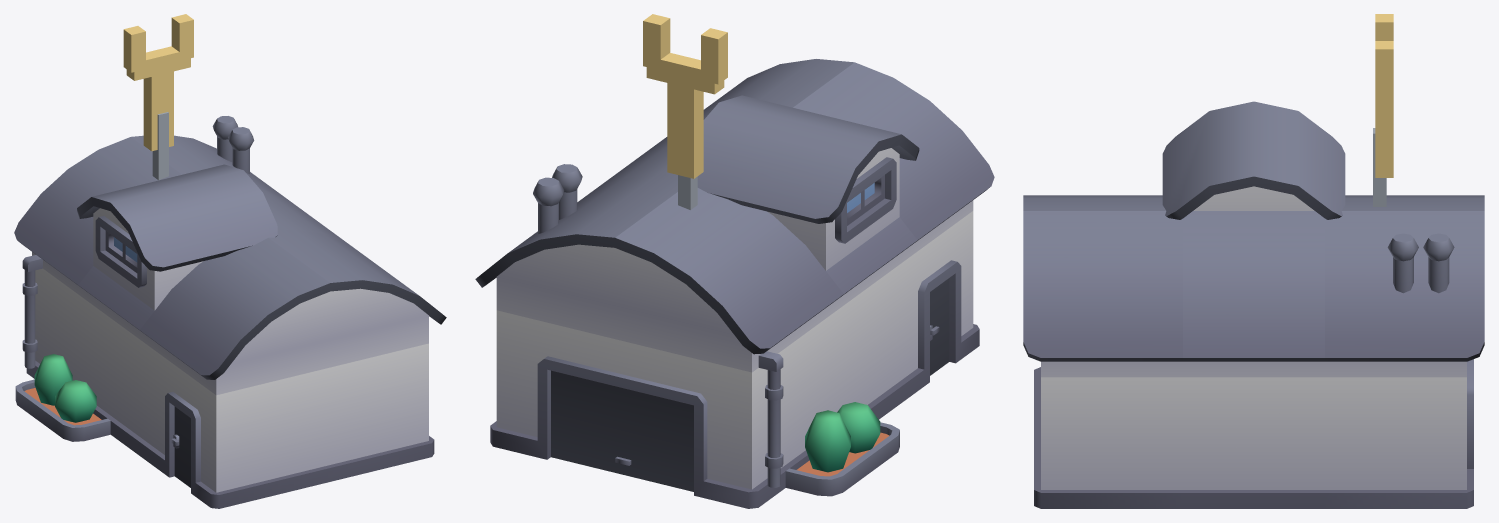
The model's file is garage.glb.
The picture shows the model from 3 angles, left to right: view 1: azimuth 30°, elevation 25°; view 2: azimuth 150°, elevation 25°; view 3: azimuth 270°, elevation 25°; orthographic projection. The views are drawn at different scales.
Visible parts, largest first — view 1: building-j, Project addition wrench handle, Project addition wrench open jaw (×2), Project addition wrench support, Project addition wrench head base; view 2: building-j, Project addition wrench handle, Project addition wrench open jaw (×2), Project addition wrench head base, Project addition wrench support; view 3: building-j, Project addition wrench open jaw (×2), Project addition wrench handle, Project addition wrench support.
Boxes of the visible parts, x1,y1,x2,y2 form: building-j: (14,116,446,508); Project addition wrench handle: (143,59,173,151); Project addition wrench open jaw (×2): (123,14,193,72); Project addition wrench support: (152,112,168,180); Project addition wrench head base: (126,46,190,80); building-j: (475,59,994,508); Project addition wrench handle: (667,68,703,178); Project addition wrench open jaw (×2): (643,14,727,84); Project addition wrench head base: (646,53,724,94); Project addition wrench support: (678,175,697,209); building-j: (1023,101,1484,508); Project addition wrench open jaw (×2): (1375,14,1393,92); Project addition wrench handle: (1375,101,1393,177); Project addition wrench support: (1373,128,1386,206).
Bounding box in the file's own units: 3.18 × 3.91 × 4.03.
4 materials, 2 textured.
